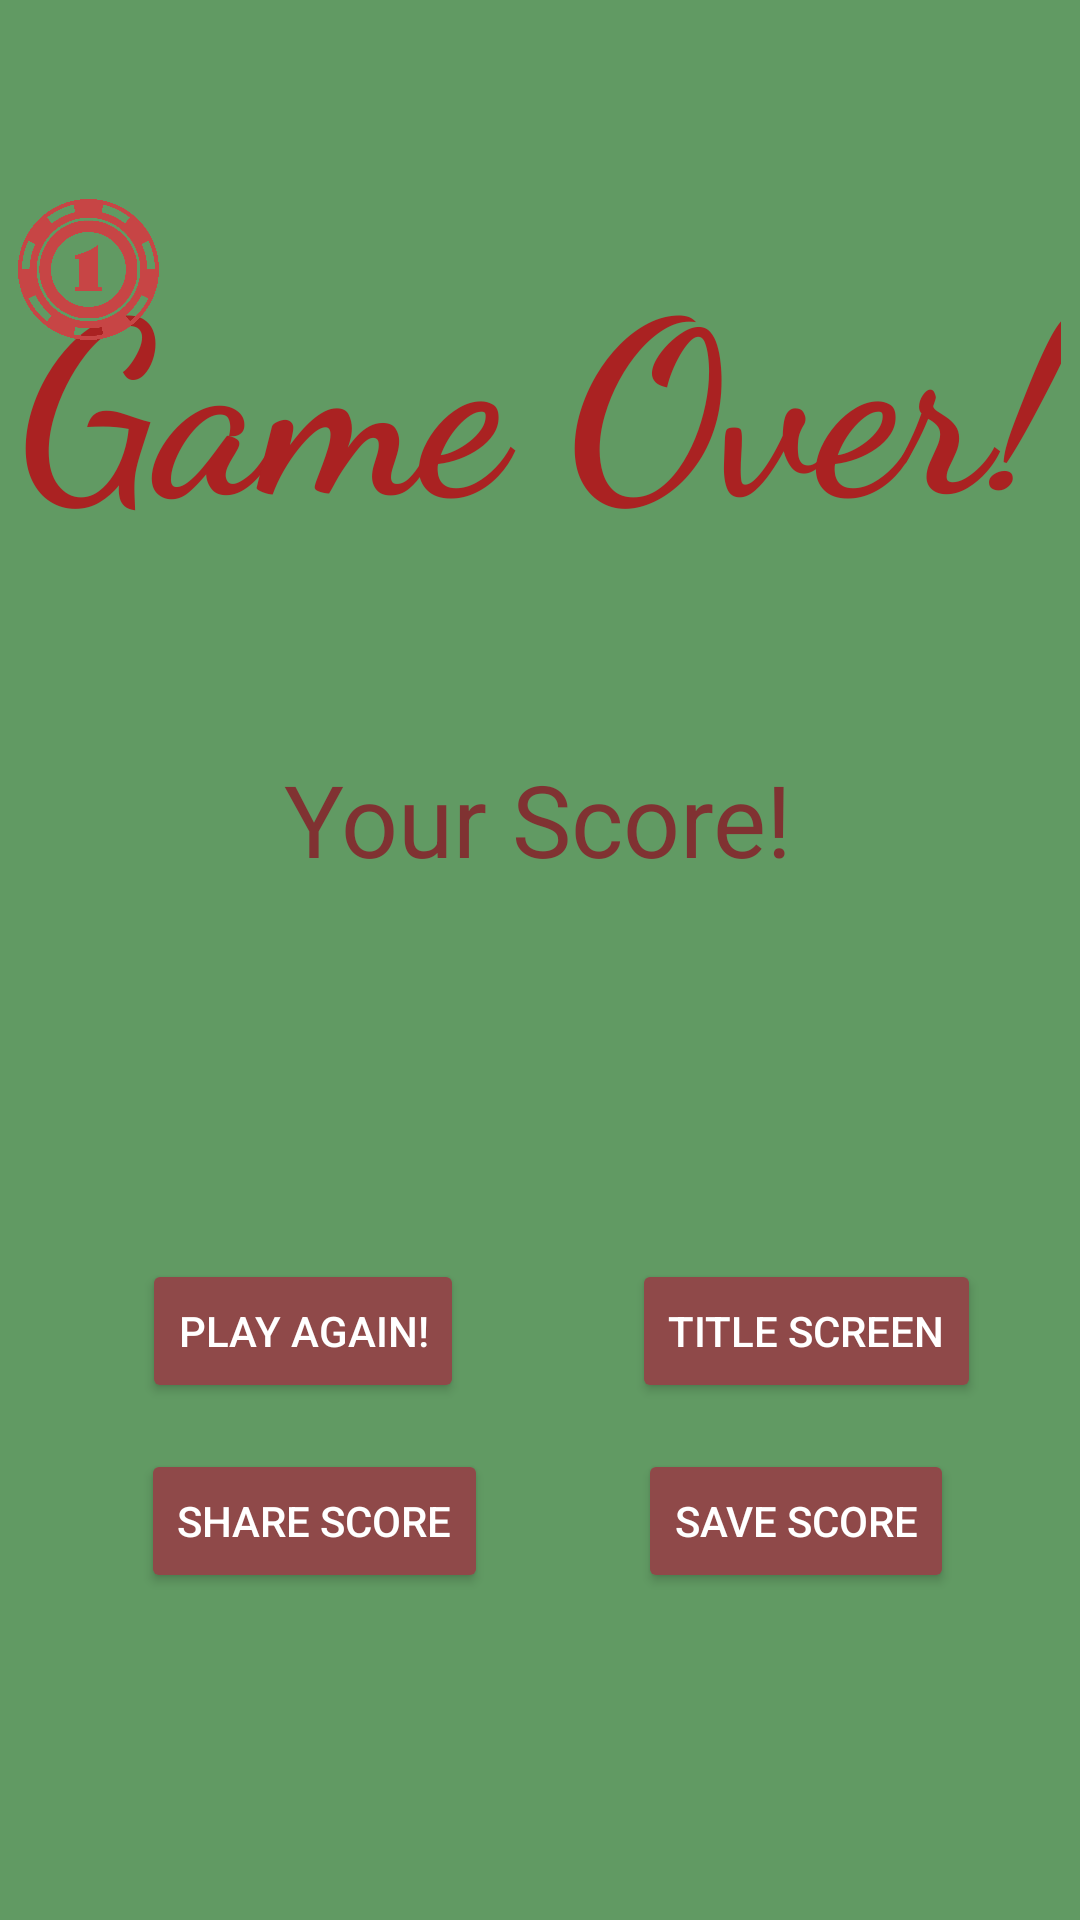

Named icons in this screenshot (1080×1920) and their centers, point (x, y):
chip: point (88, 269)
